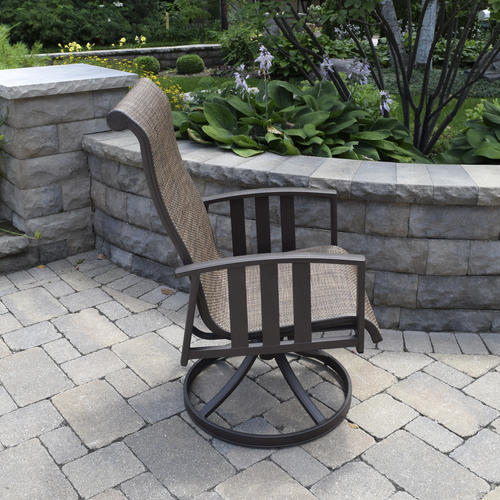chair: (96, 70, 393, 460)
